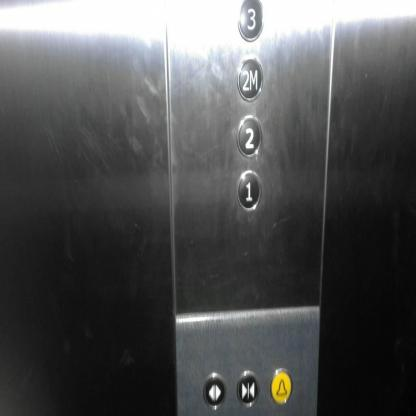1: (235, 168, 262, 212)
2: (235, 113, 262, 158)
2M: (235, 54, 264, 103)
3: (236, 0, 264, 44)
alarm: (268, 367, 294, 406)
close: (235, 368, 261, 408)
open: (201, 371, 227, 411)
